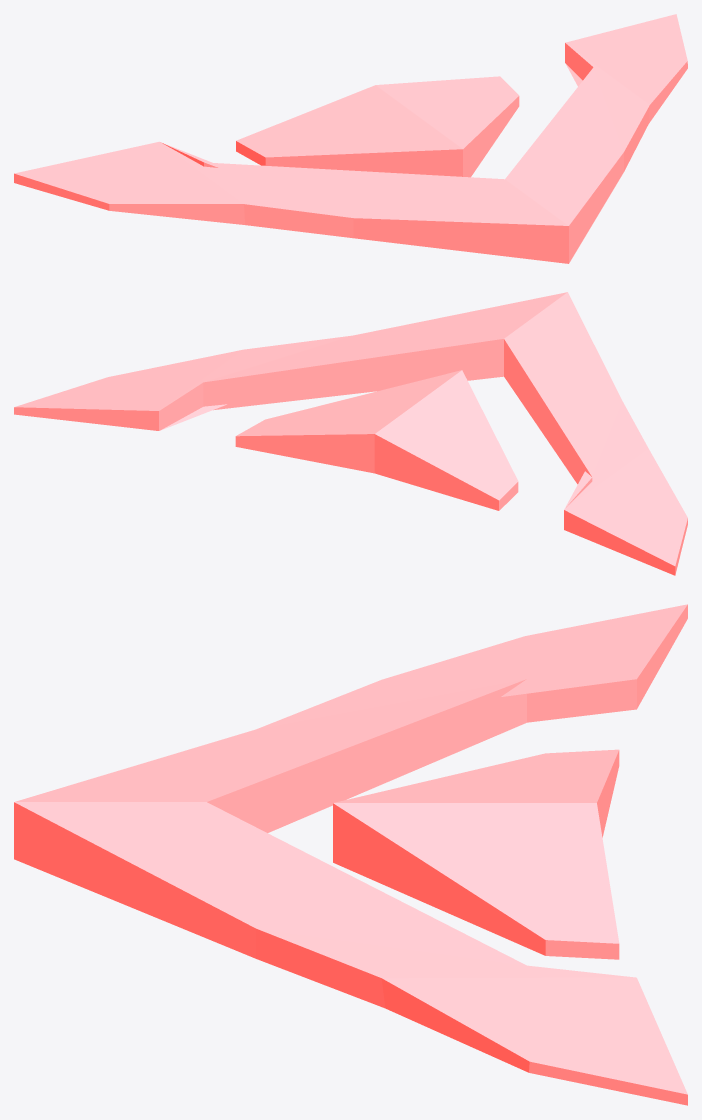
Rendered from arrow.fbx.
3 renders of one model, top to bottom at view 1: azimuth 30°, elevation 25°; view 2: azimuth 150°, elevation 25°; view 3: azimuth 270°, elevation 25°, orthographic. The views are drawn at different scales.
Parts seen in each view (by area): view 1: Cube.005; view 2: Cube.005; view 3: Cube.005.
Part boxes in pixels (x1=…): Cube.005: x1=14, y1=14, x2=687, y2=263; Cube.005: x1=14, y1=292, x2=687, y2=575; Cube.005: x1=14, y1=604, x2=687, y2=1105.
Bounding box in the file's own units: 0.7962 × 0.0487 × 0.4655.
